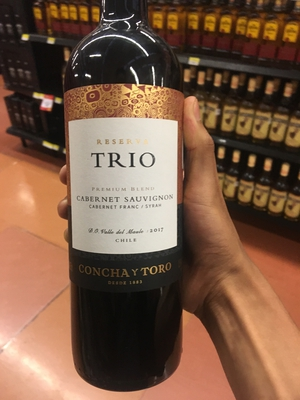trio cabernet sauvignon: (53, 4, 206, 375)
